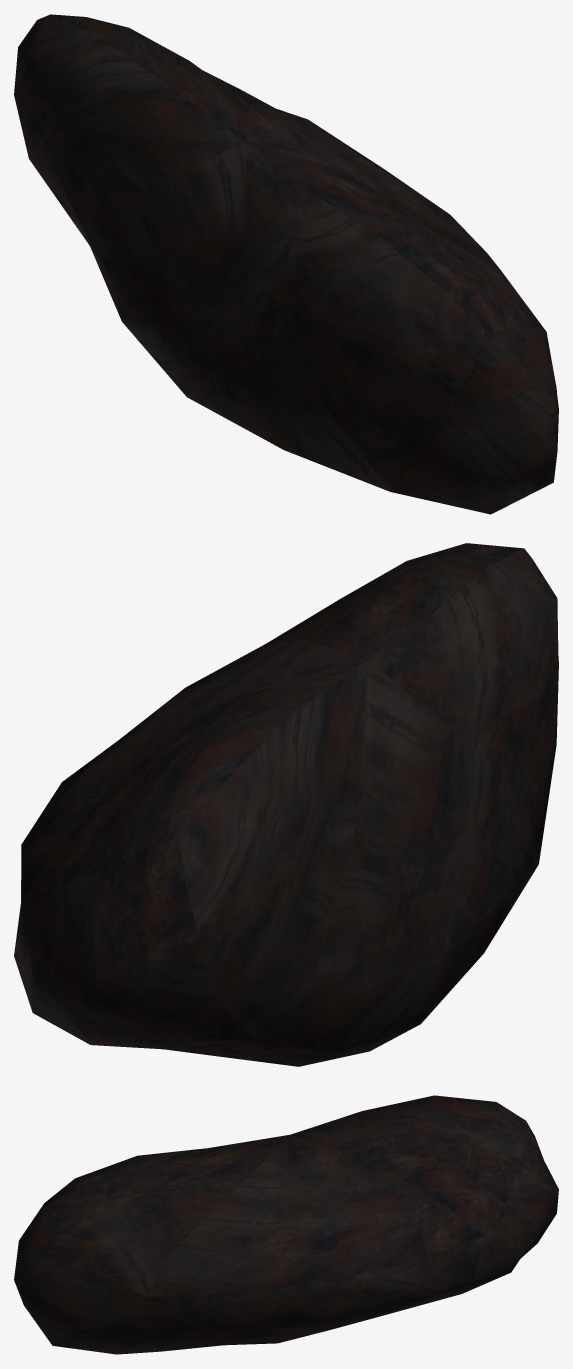
The model's file is rock3.fbx.
3 renders of one model, top to bottom at view 1: azimuth 30°, elevation 25°; view 2: azimuth 150°, elevation 25°; view 3: azimuth 270°, elevation 25°, orthographic. The views are drawn at different scales.
Parts seen in each view (by area): view 1: rock3; view 2: rock3; view 3: rock3.
Boxes of the visible parts, bbox=[...] form: rock3: bbox=[14, 14, 558, 514]; rock3: bbox=[14, 543, 558, 1066]; rock3: bbox=[14, 1095, 558, 1354].
Bounding box in the file's own units: 91.41 × 104 × 238.
